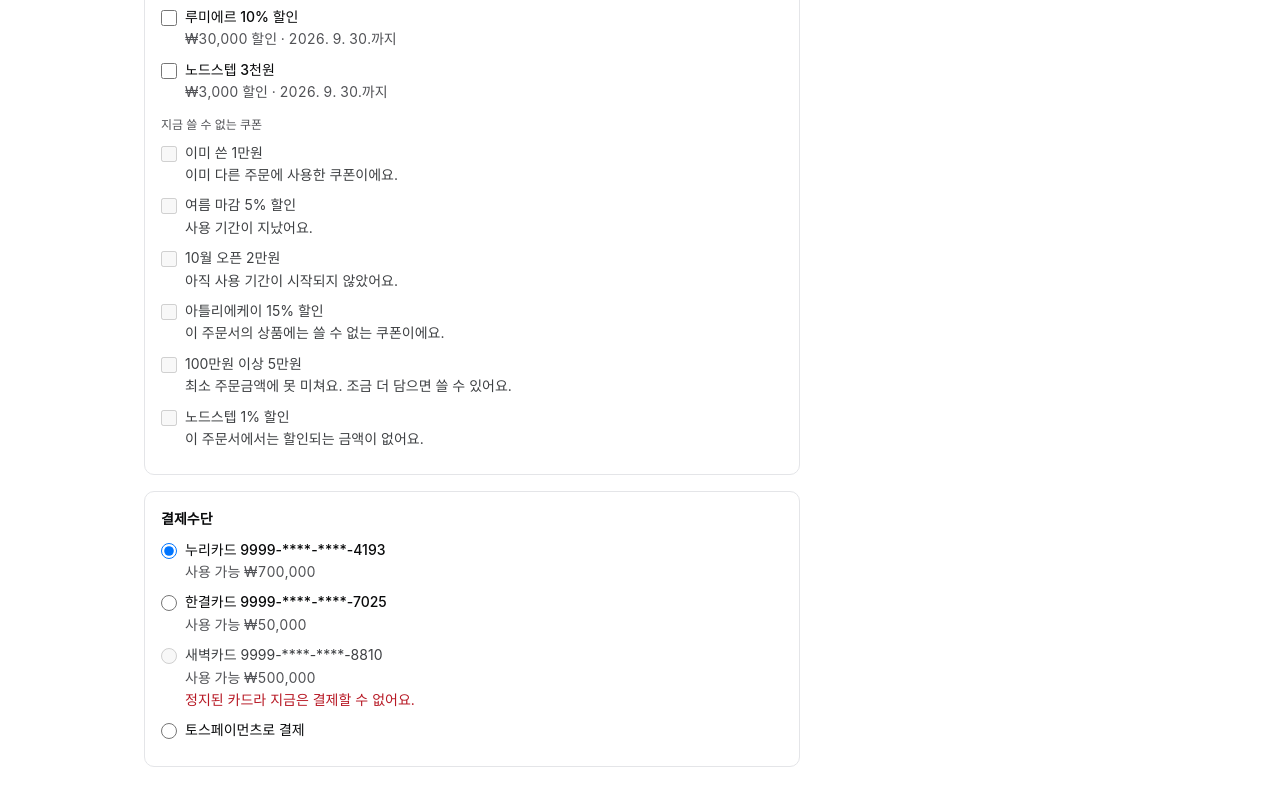
Test: 거절 (F2) › says how much the card was short, and that the hold is still there
The image size is (1280, 785).
(page scrolled)
Expected: the element named "결제수단 선택" is shown, [160,540,415,739]
Click the radio button labelled "한결카드 9999-****-****-7025 사용 가능 ₩50,000".
click(169, 604)  # box [161,596,177,612]
(page scrolled)
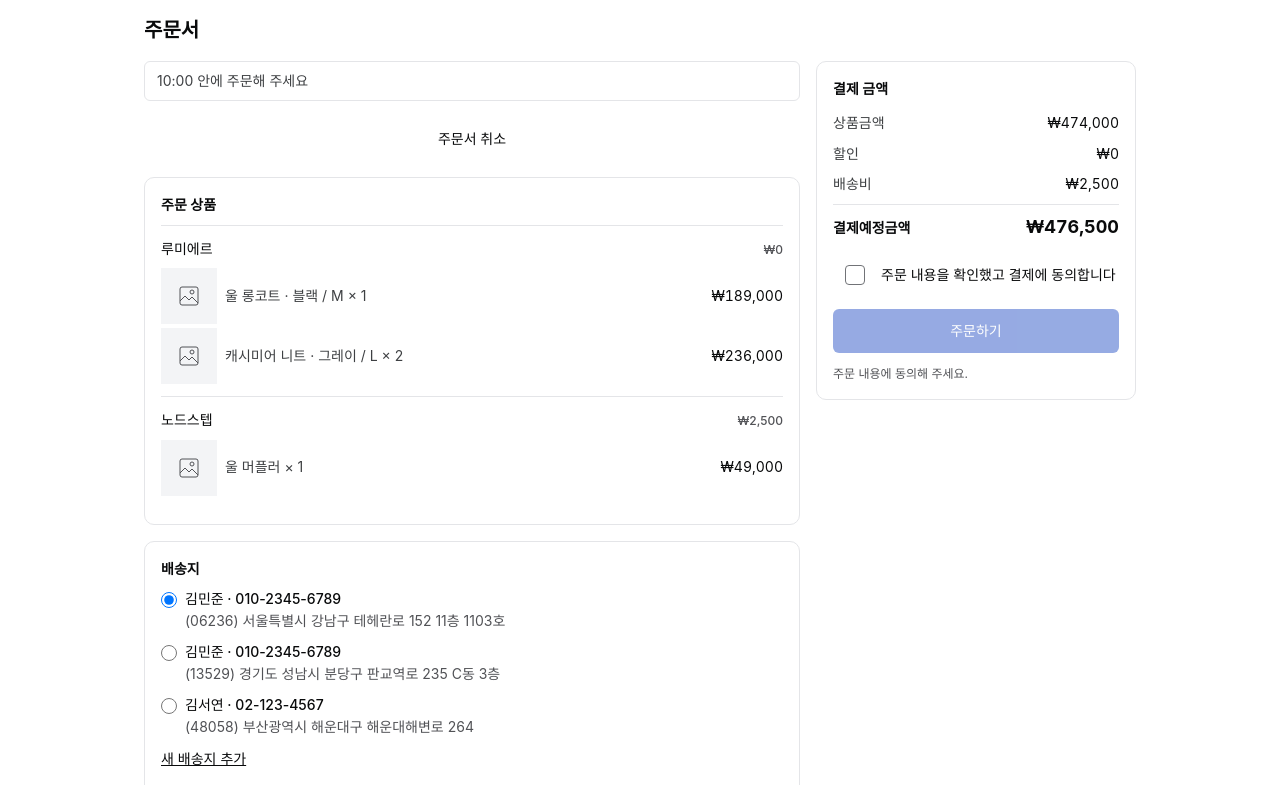
Click the checkbox named "주문 내용을 확인했고 결제에 동의합니다".
click(855, 275)  # box [833,253,877,297]
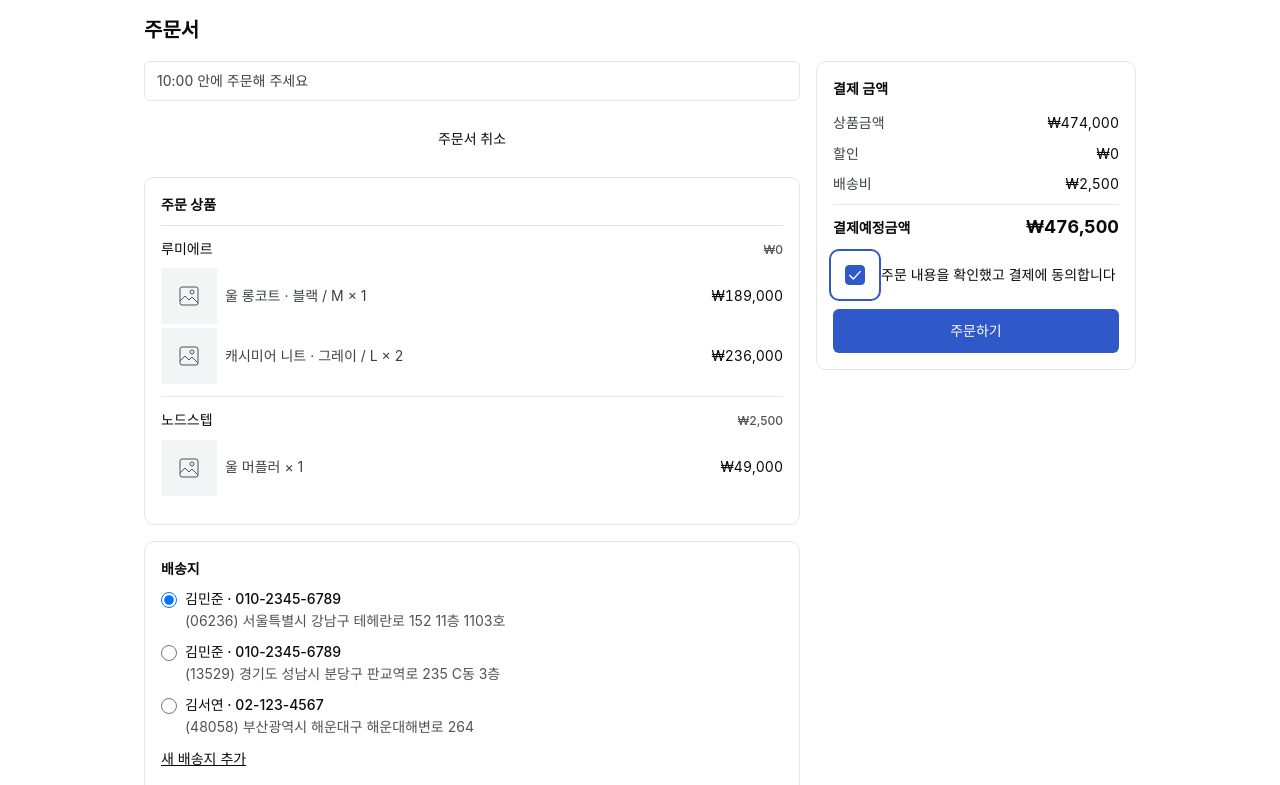
Click the button "주문하기".
click(976, 331)  # box [833,309,1119,353]
(page scrolled)
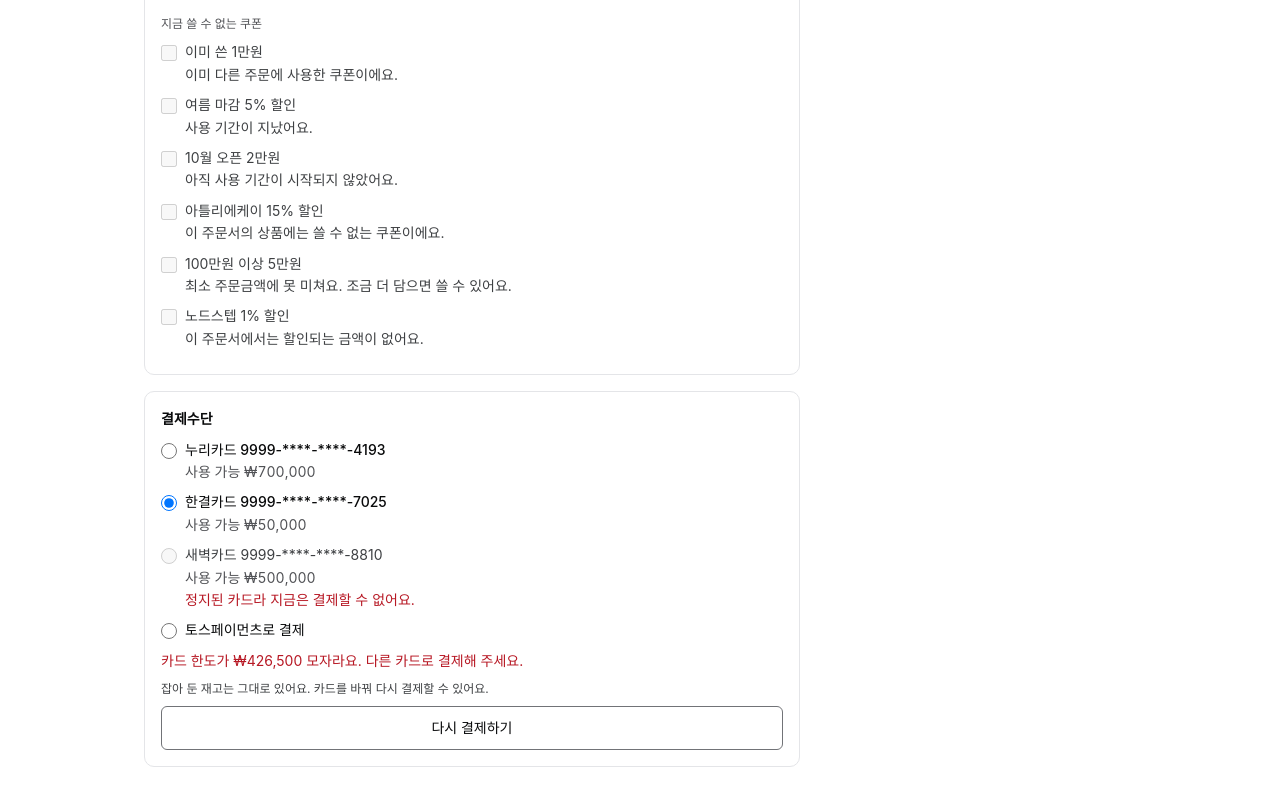
Expected: the text "카드 한도가 ₩426,500 모자라요. 다른 카드로 결제해 주세요." is shown, [161,652,523,669]
Expected: the text "잡아 둔 재고는 그대로 있어요. 카드를 바꿔 다시 결제할 수 있어요." is shown, [161,681,489,696]
